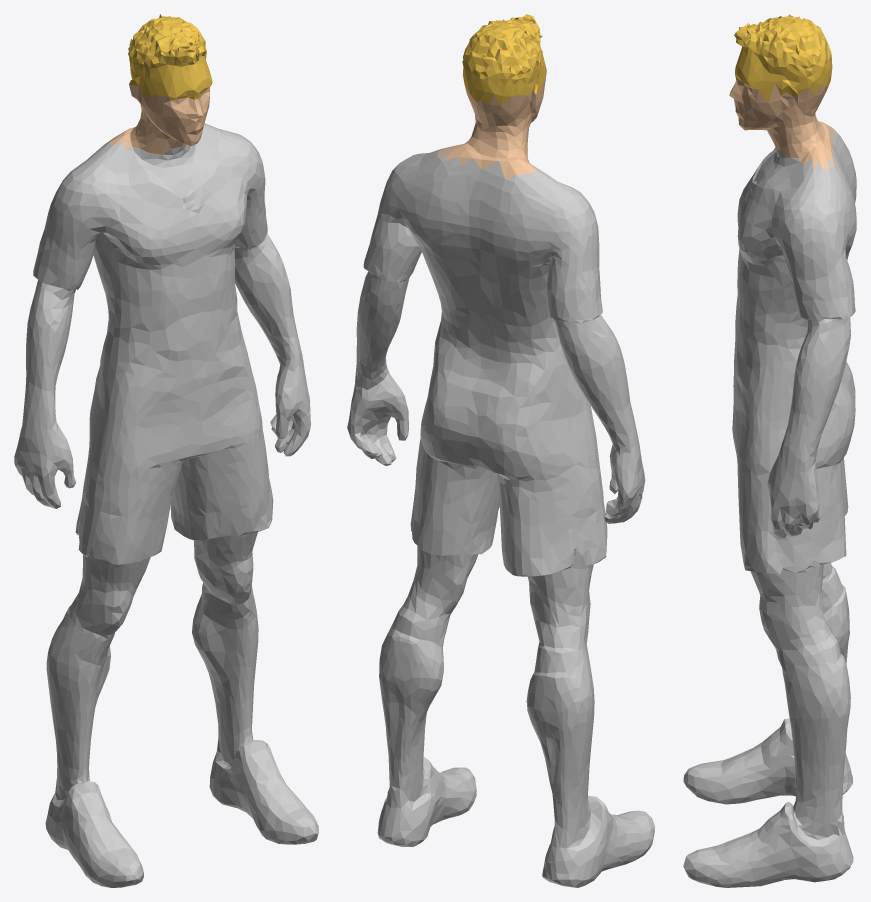
Rendered from teamA_player_01.obj.
3 renders of one model, left to right at view 1: azimuth 30°, elevation 25°; view 2: azimuth 150°, elevation 25°; view 3: azimuth 270°, elevation 25°, orthographic.
Parts seen in each view (by area): view 1: teamA_player_01_Mesh; view 2: teamA_player_01_Mesh; view 3: teamA_player_01_Mesh.
Part boxes in pixels (x1=…): teamA_player_01_Mesh: x1=14, y1=14, x2=318, y2=887; teamA_player_01_Mesh: x1=347, y1=14, x2=654, y2=887; teamA_player_01_Mesh: x1=683, y1=14, x2=856, y2=887.
Bounding box in the file's own units: 0.6564 × 1.8 × 0.3463.
